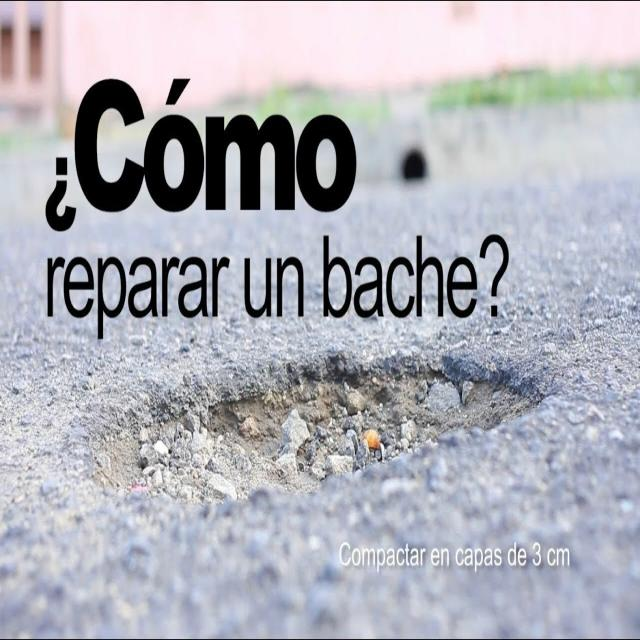Pothole: (55, 306, 556, 556)
